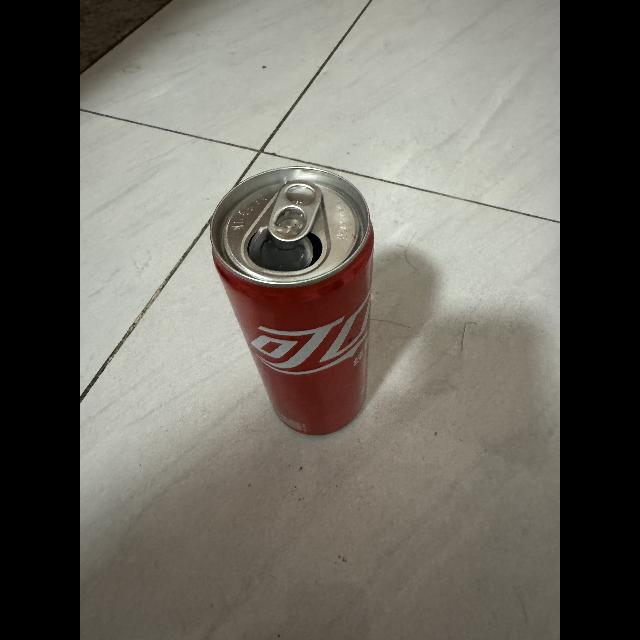Cola: (201, 151, 385, 451)
